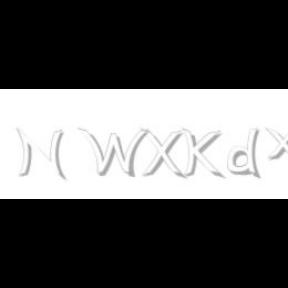K: (182, 128, 222, 180)
N: (16, 128, 64, 180)
W: (77, 128, 149, 178)
X: (140, 128, 184, 180)
d: (228, 128, 264, 180)
